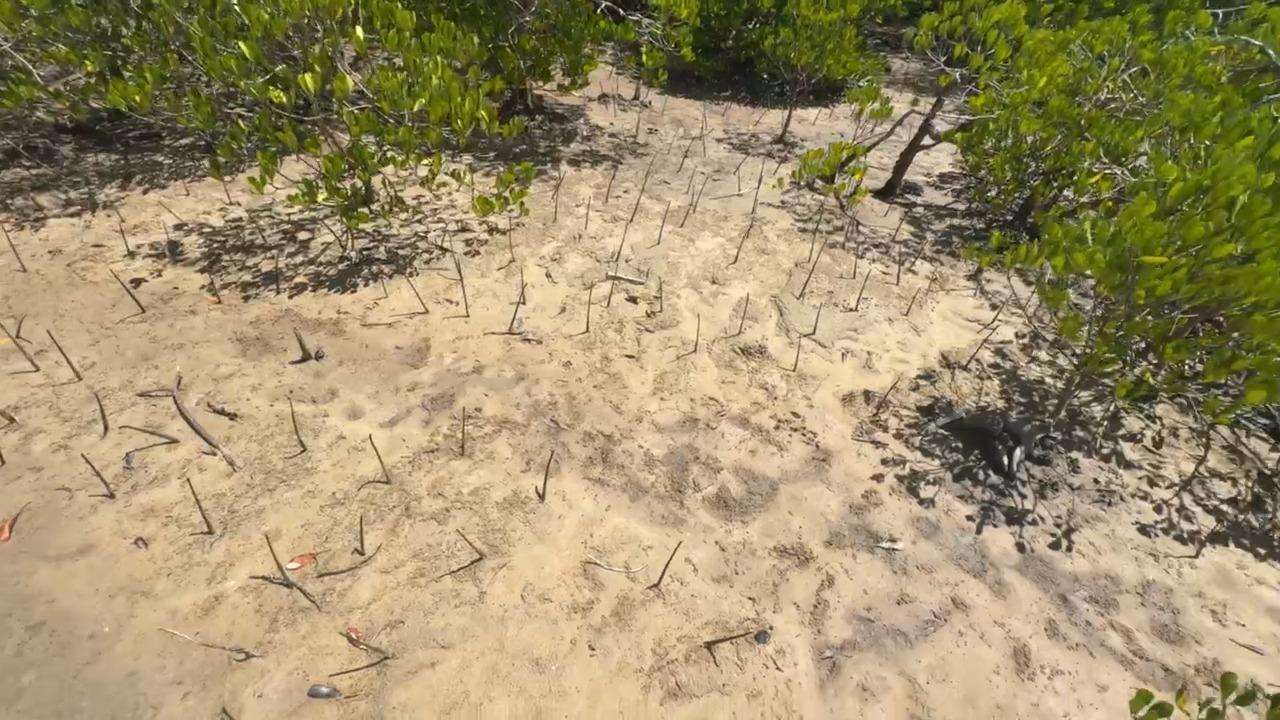Tree: (286, 178, 344, 248), (156, 625, 254, 658), (0, 321, 40, 372), (797, 239, 827, 300), (46, 329, 81, 379), (962, 325, 1000, 370), (109, 269, 146, 314), (186, 477, 214, 534), (203, 155, 234, 206), (264, 534, 293, 586), (80, 453, 113, 497), (338, 631, 390, 658), (507, 201, 530, 262), (656, 540, 683, 586), (2, 225, 27, 273), (1195, 518, 1223, 558), (117, 425, 179, 443), (369, 433, 391, 482), (629, 173, 650, 223), (807, 206, 825, 263), (403, 274, 429, 313), (288, 398, 307, 450), (977, 300, 1006, 333), (873, 380, 899, 416), (509, 283, 528, 331), (455, 528, 484, 558), (731, 225, 753, 264), (703, 631, 753, 648), (156, 200, 188, 226), (751, 158, 765, 213), (457, 259, 470, 317), (246, 210, 268, 244), (93, 393, 108, 440), (854, 269, 871, 310), (541, 449, 554, 502), (293, 326, 312, 361), (676, 138, 694, 173), (657, 200, 671, 244), (909, 240, 929, 270), (693, 176, 709, 213), (605, 163, 619, 203), (606, 263, 618, 307), (738, 292, 750, 334), (615, 223, 628, 261), (891, 211, 908, 240), (208, 271, 222, 303), (551, 171, 567, 199), (905, 288, 921, 316), (586, 281, 594, 332), (733, 152, 750, 175), (792, 332, 802, 371), (118, 222, 130, 254), (447, 232, 457, 270), (925, 267, 938, 296), (685, 165, 698, 193), (645, 152, 659, 177), (813, 302, 823, 335), (274, 252, 281, 295), (359, 514, 366, 556), (598, 81, 608, 110), (520, 265, 527, 305), (30, 194, 45, 212), (896, 244, 902, 286), (461, 406, 466, 456), (112, 203, 125, 222), (584, 195, 591, 229), (694, 313, 700, 352), (679, 207, 690, 228), (0, 409, 16, 423), (754, 109, 767, 126), (161, 219, 171, 241), (180, 177, 190, 196), (658, 275, 663, 313), (812, 108, 822, 126), (380, 276, 388, 297), (722, 100, 732, 116), (222, 707, 234, 720), (700, 102, 704, 141), (554, 191, 559, 222), (635, 111, 641, 136), (661, 94, 668, 115), (690, 184, 696, 206), (852, 254, 857, 280), (773, 161, 782, 175), (883, 203, 892, 217), (608, 64, 615, 81), (612, 88, 616, 117), (702, 132, 706, 157), (737, 169, 741, 192), (0, 452, 6, 466), (828, 108, 834, 118), (616, 75, 619, 91), (781, 106, 783, 128)
